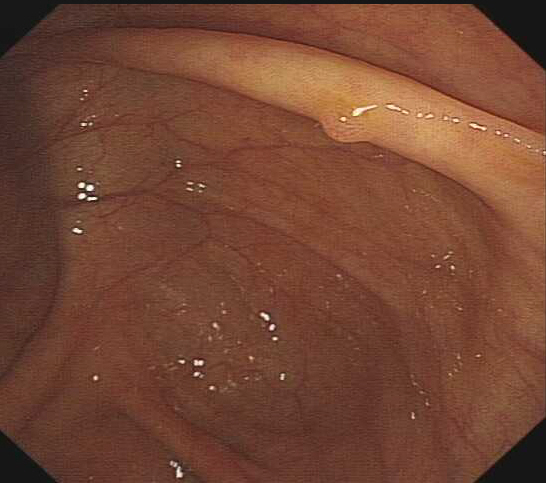adenoma: (310, 107, 377, 146)
